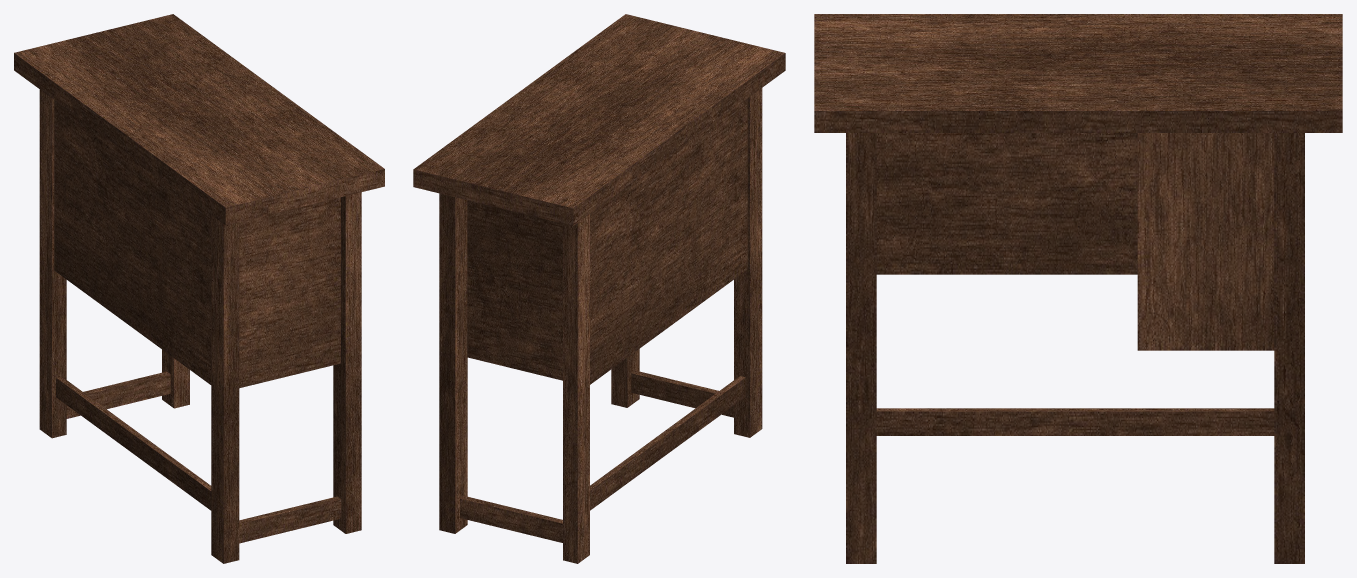
The model's file is desk.glb.
The picture shows the model from 3 angles, left to right: view 1: azimuth 30°, elevation 25°; view 2: azimuth 150°, elevation 25°; view 3: azimuth 270°, elevation 25°; orthographic projection. The views are drawn at different scales.
Parts seen in each view (by area): view 1: Cube; view 2: Cube; view 3: Cube.
Boxes of the visible parts, bbox=[...] form: Cube: bbox=[14, 14, 384, 563]; Cube: bbox=[413, 14, 785, 563]; Cube: bbox=[814, 14, 1342, 563].
Size of the model in its own units: 1.02 by 2.25 by 2.34.
1 material, 1 textured.
